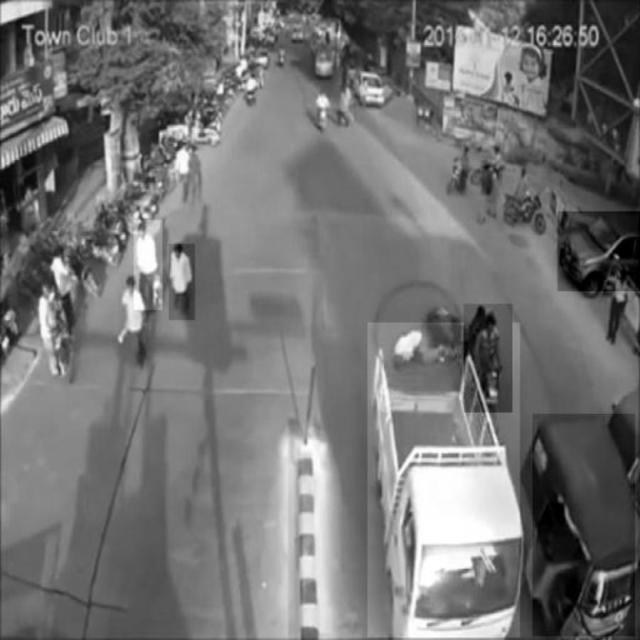accident: (368, 322, 520, 638)
person: (119, 273, 149, 366), (134, 220, 162, 310), (169, 244, 195, 320)
vehicle: (533, 414, 635, 636), (557, 211, 640, 290), (464, 305, 512, 413)
